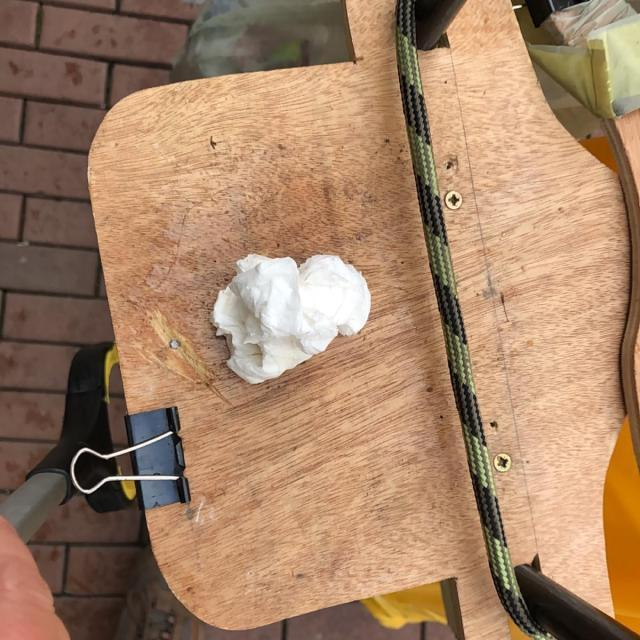Paper: (220, 247, 378, 382)
